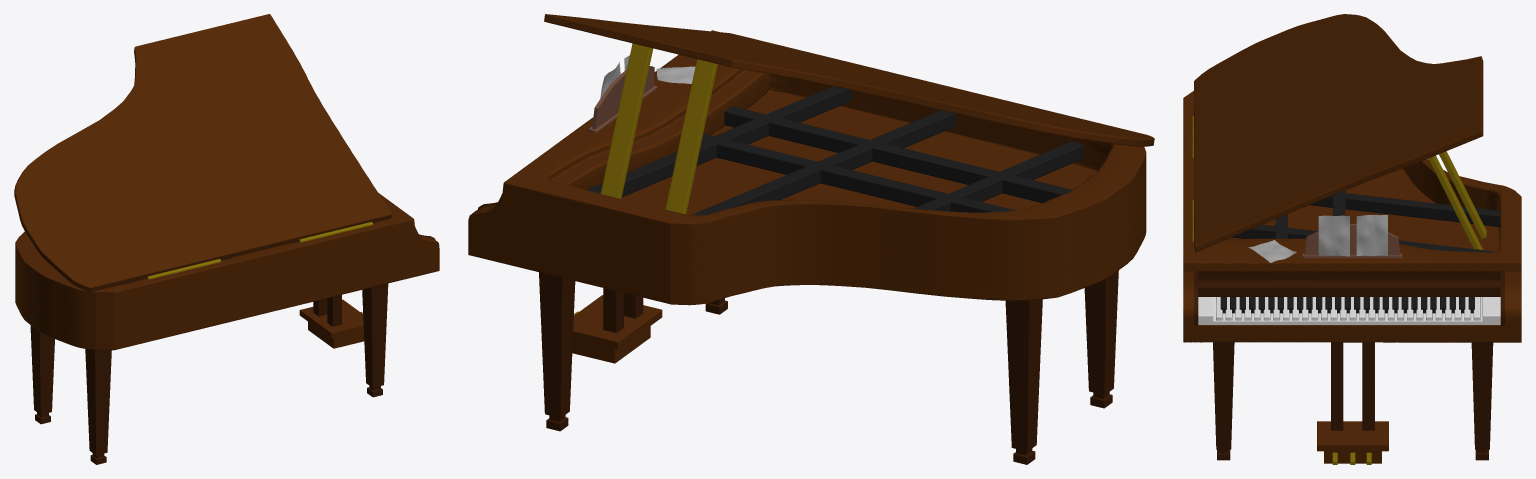
File: Piano.fbx
The picture shows the model from 3 angles, left to right: view 1: azimuth 30°, elevation 25°; view 2: azimuth 150°, elevation 25°; view 3: azimuth 270°, elevation 25°; orthographic projection. The views are drawn at different scales.
Parts seen in each view (by area): view 1: pPlane4; view 2: pPlane4; view 3: pPlane4.
Part boxes in pixels (<box>): pPlane4: <box>14,14,439,464</box>; pPlane4: <box>468,14,1154,464</box>; pPlane4: <box>1183,14,1521,464</box>.
Size of the model in its own units: 15.44 by 11.67 by 10.77.
